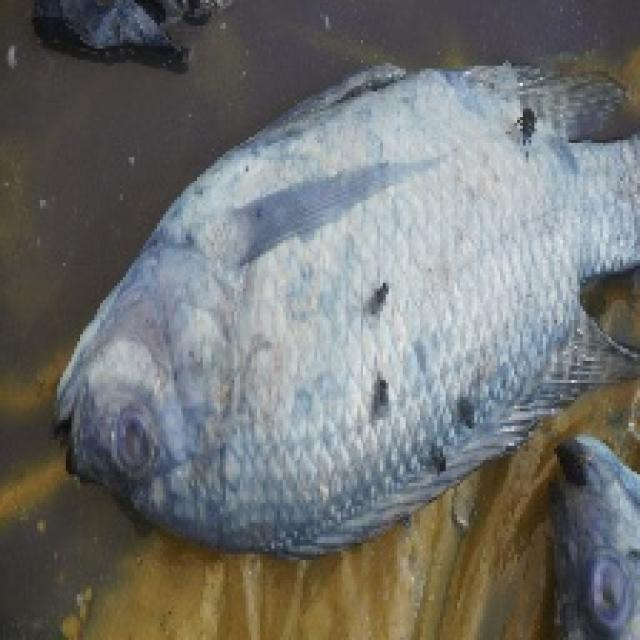Non-Fresh: (198, 133, 539, 484), (105, 404, 193, 489)
